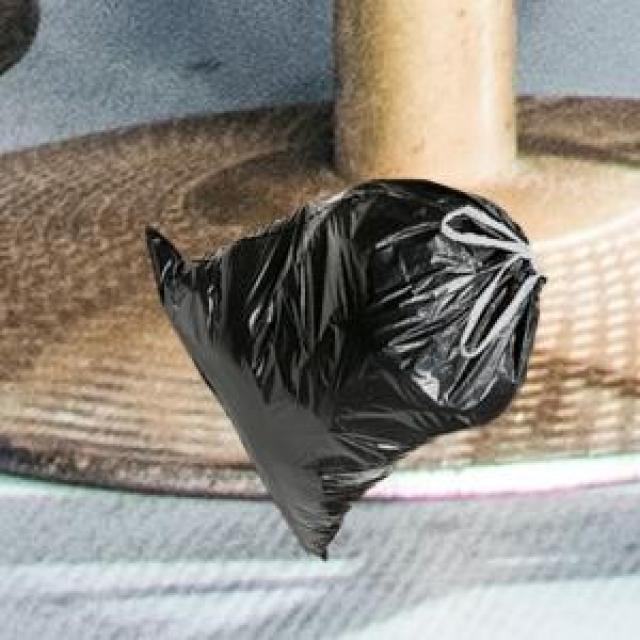Vinyl: (146, 180, 545, 557)
